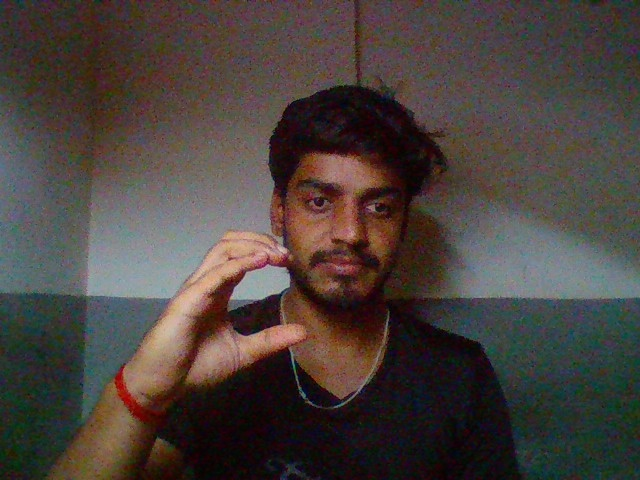C: (123, 221, 343, 389)
